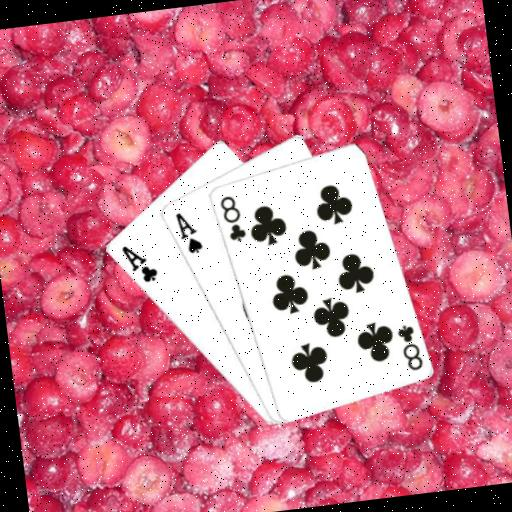8C: (216, 190, 249, 245), (393, 320, 425, 374)
AC: (118, 239, 161, 288)
AS: (172, 207, 205, 257)
